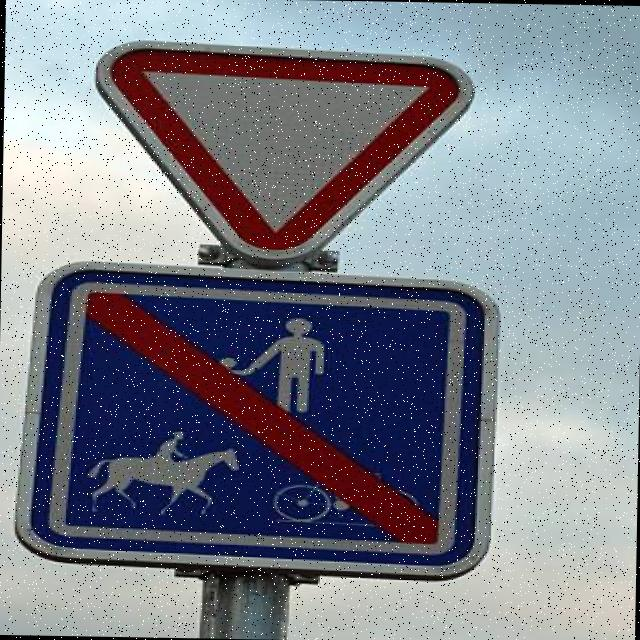give_way: (68, 29, 479, 264)
